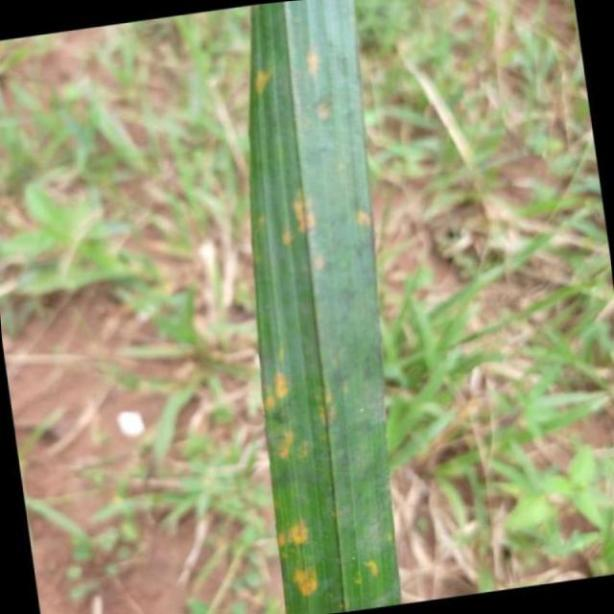Kalium: (246, 6, 400, 614)
